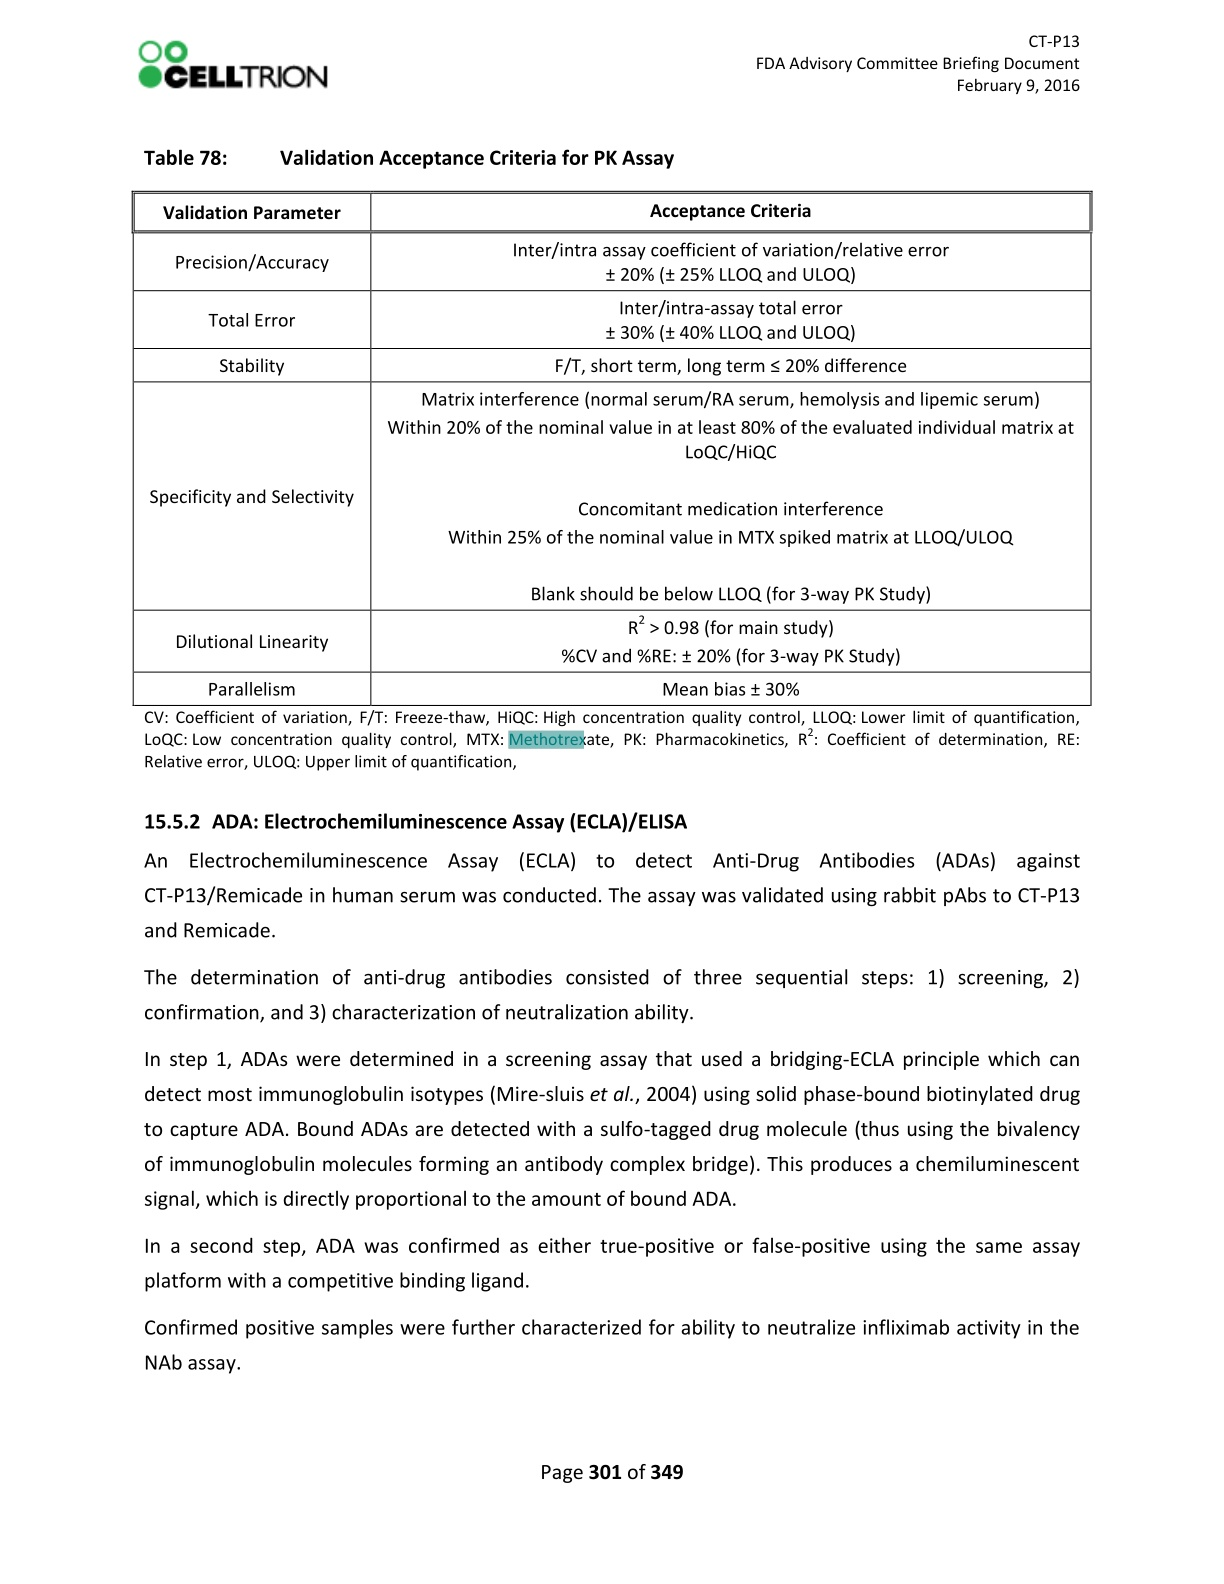full_lined: (131, 190, 1092, 707)
